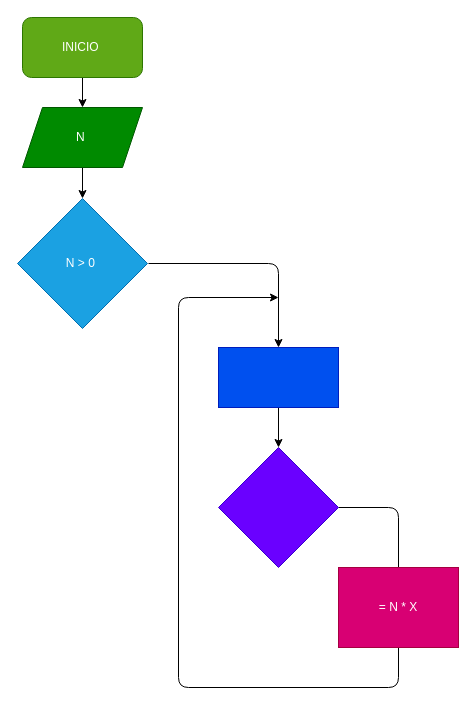
Image size: 476x713. Some labels were removed from this diagram. Each missing label, with the centre of its shape:
"X = N - 1" belongs at [278,377].
"X > 0" belongs at [278,507].
